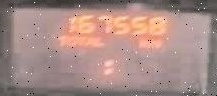1: (64, 14, 75, 31)
5: (128, 14, 147, 35), (112, 13, 128, 34)
6: (75, 13, 95, 33)
7: (95, 13, 110, 33)
8: (147, 15, 165, 35)
X: (100, 56, 114, 75), (54, 33, 65, 44), (135, 37, 147, 47), (74, 34, 84, 45), (147, 38, 158, 47), (83, 35, 92, 46), (93, 35, 102, 45), (67, 35, 75, 45)
